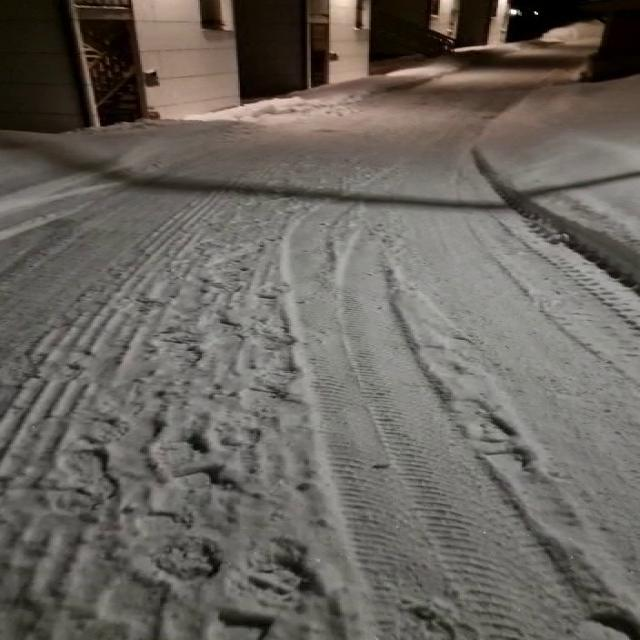path: (0, 42, 638, 640)
